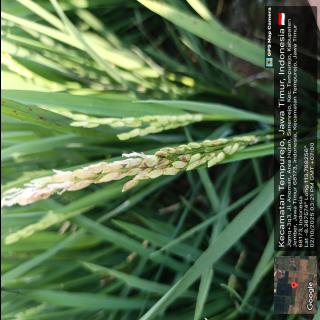Busuk-Bulir: (153, 157, 170, 168), (176, 153, 191, 163), (154, 149, 169, 158), (173, 143, 185, 151)
